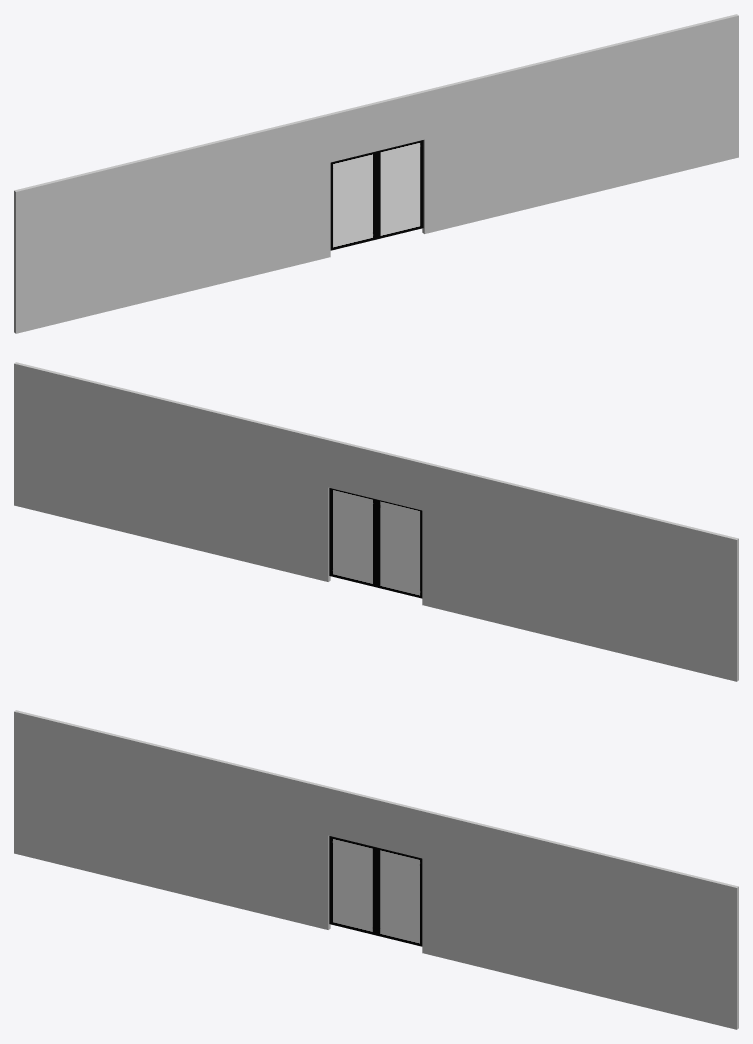
Rendered from 1x1.fbx_LongWallOpen.fbx.
3 renders of one model, top to bottom at view 1: azimuth 30°, elevation 25°; view 2: azimuth 150°, elevation 25°; view 3: azimuth 330°, elevation 25°, orthographic.
Visible parts, largest first — view 1: LongWallOpen, RightSlidingDoor, LeftSlidingDoor; view 2: LongWallOpen, RightSlidingDoor, LeftSlidingDoor; view 3: LongWallOpen, LeftSlidingDoor, RightSlidingDoor.
Boxes of the visible parts, x1,y1,x2,y2 form: LongWallOpen: [14, 14, 738, 333]; RightSlidingDoor: [376, 140, 423, 239]; LeftSlidingDoor: [330, 151, 376, 250]; LongWallOpen: [14, 362, 738, 681]; RightSlidingDoor: [329, 488, 376, 587]; LeftSlidingDoor: [376, 499, 422, 598]; LongWallOpen: [14, 710, 738, 1029]; LeftSlidingDoor: [329, 836, 375, 935]; RightSlidingDoor: [376, 847, 422, 946].
Size of the model in its own units: 2000 by 375 by 10.
